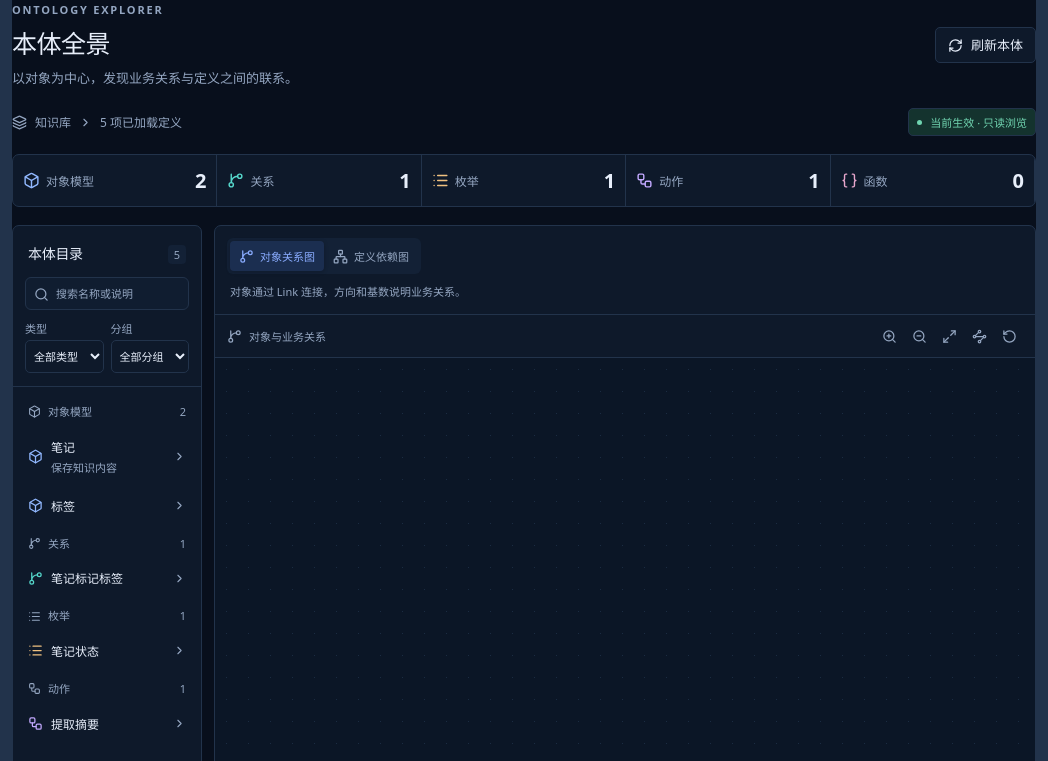
本体全景浏览 › 同一稳定ID改名后使用刷新定义，不沿用旧名称或详情
The width and height of the screenshot is (1048, 761).
Click the button with aria-label "查看对象模型：笔记": (107, 456) [19,428,195,485]
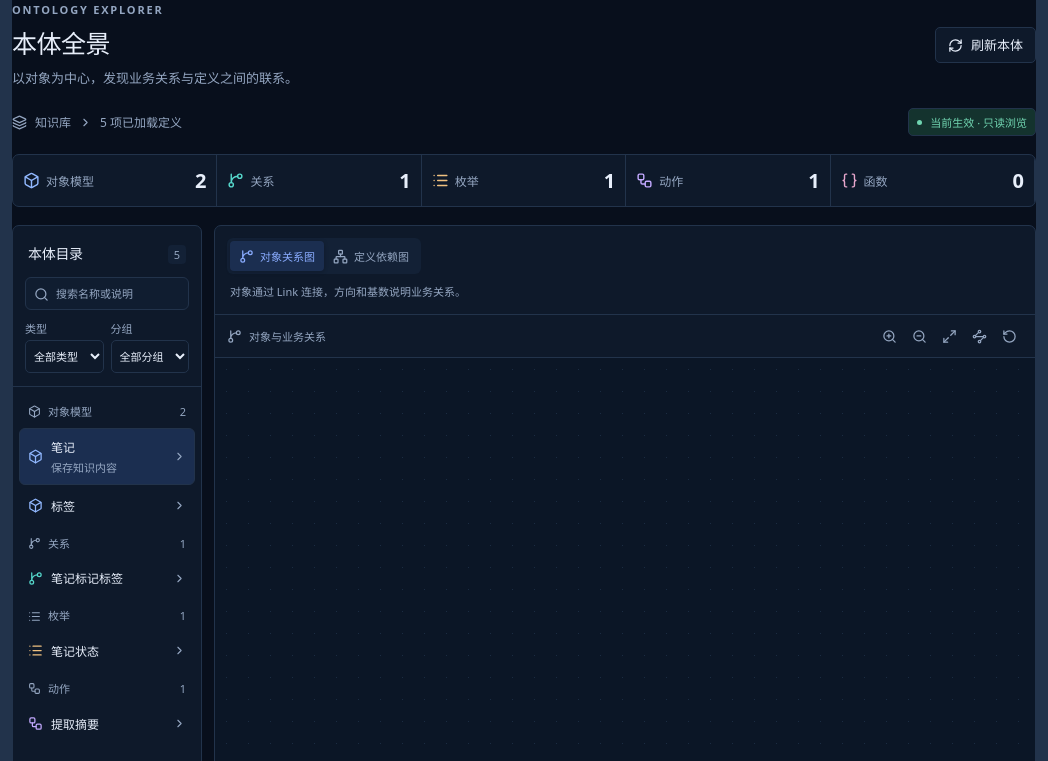
Click the button "刷新本体": (986, 45) [935,27,1036,63]
(page scrolled)
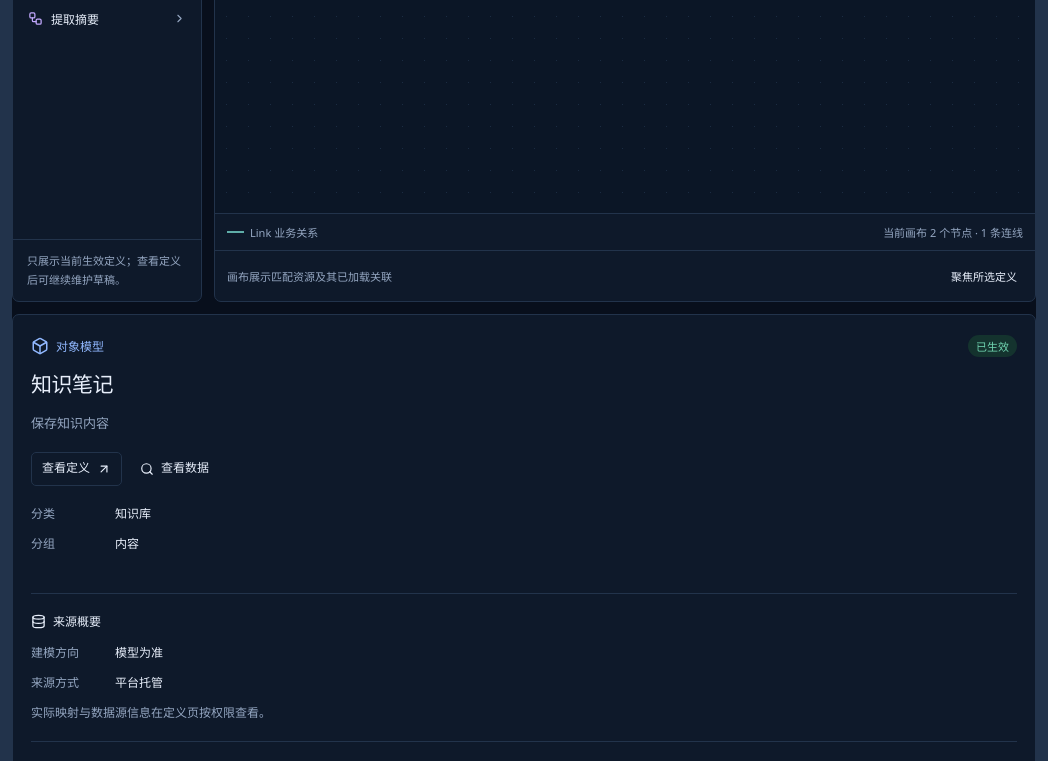
expect the heading "知识笔记" is shown: met, box [31,370,113,398]
expect the button "查看对象模型：笔记" is gone: met
